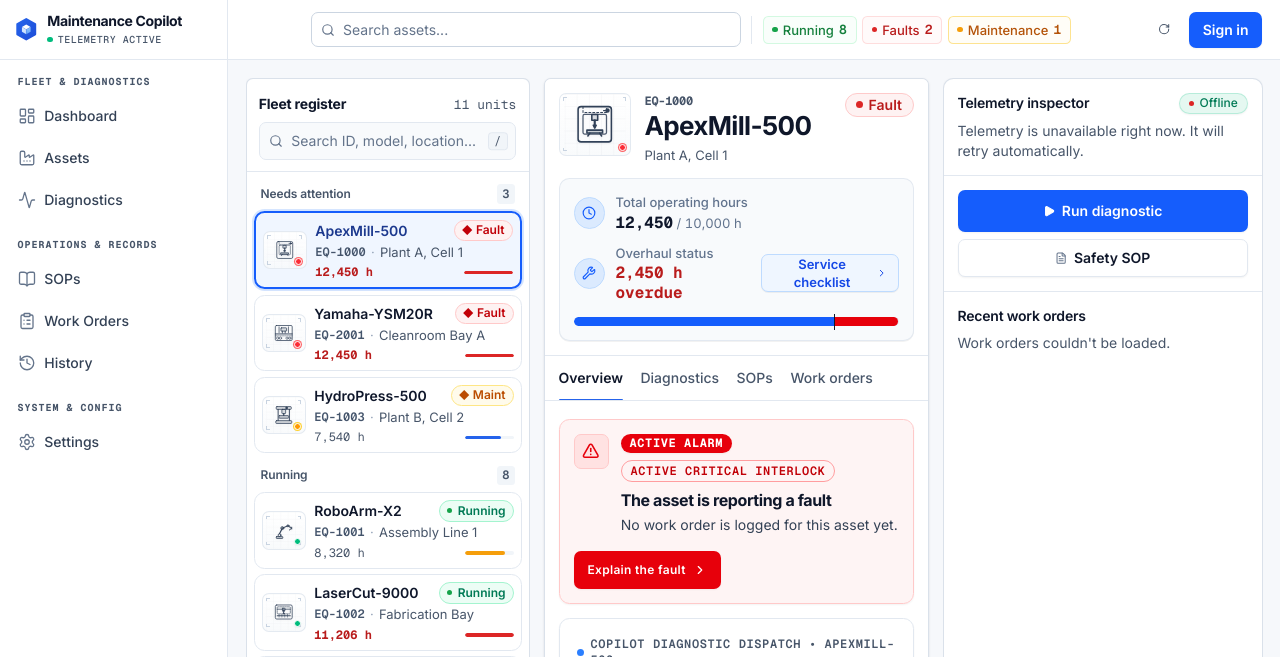
App without demo data › shows no dashboard figures when analytics fail
Check: the heading "ApexMill-500" is shown, box [644,110,811,143]
Click the button "Dashboard".
click(114, 116)  # box [9,96,218,136]
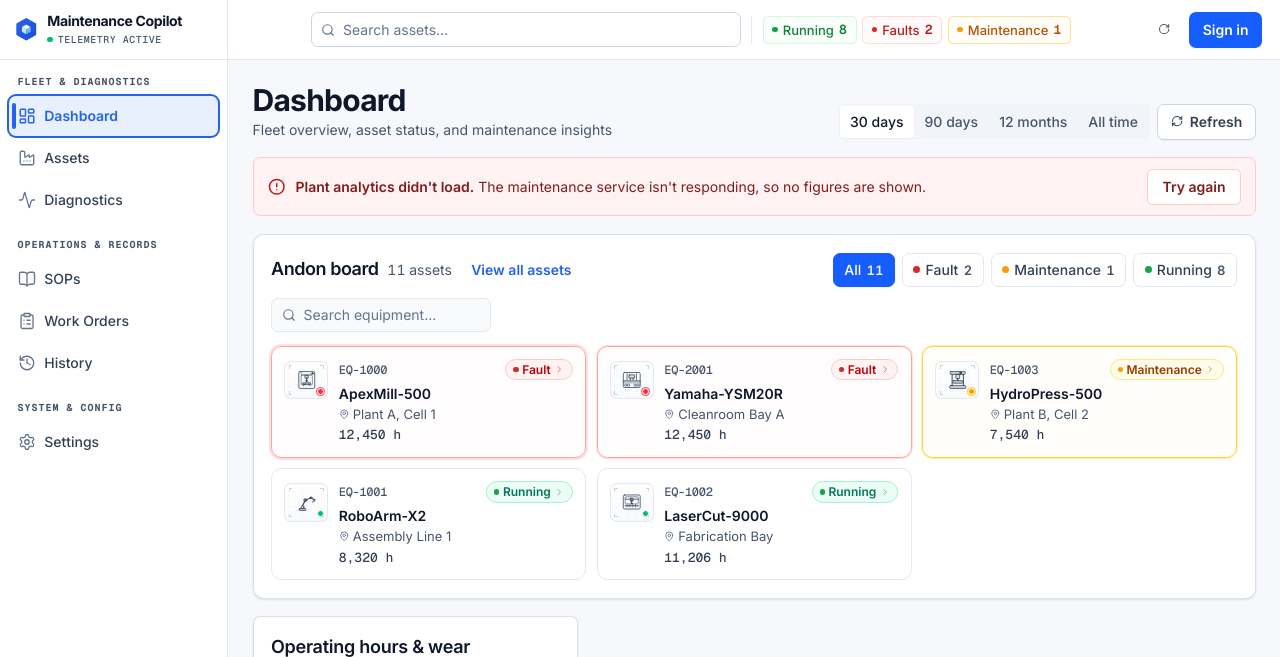
Check: the text "Plant analytics didn't load." is shown, box [296,178,474,195]
